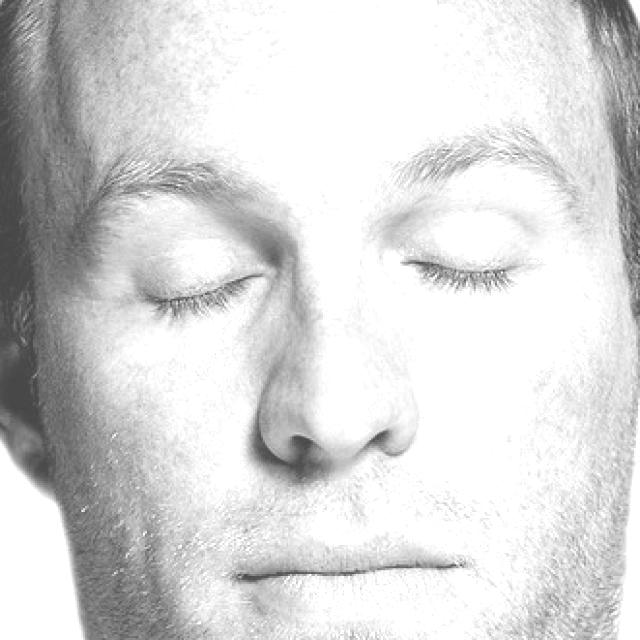real: (32, 58, 616, 618), (122, 226, 572, 324)
